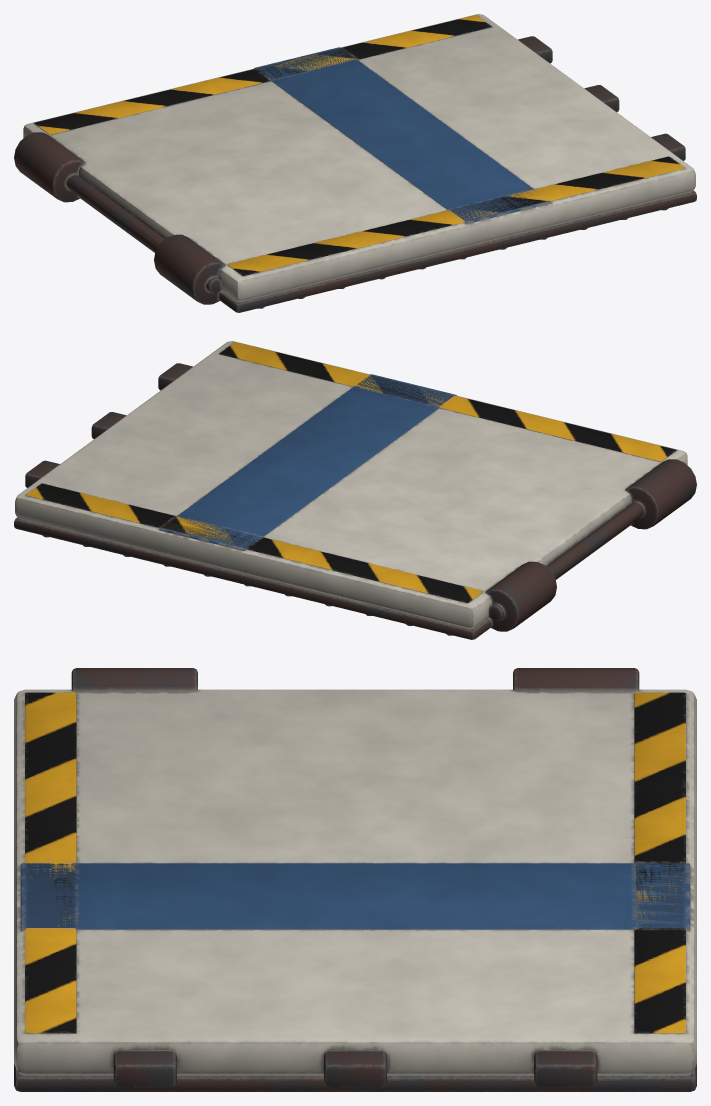
The model's file is kapsul_kapak.glb.
3 views of the same model, one above another, from view 1: azimuth 30°, elevation 25°; view 2: azimuth 150°, elevation 25°; view 3: azimuth 270°, elevation 25° (orthographic). The views are drawn at different scales.
Parts seen in each view (by area): view 1: hatch; view 2: hatch; view 3: hatch.
Part boxes in pixels (bbox=[...]): hatch: bbox=[14, 14, 696, 312]; hatch: bbox=[14, 341, 696, 639]; hatch: bbox=[14, 668, 696, 1091].
Size of the model in its own units: 1.76 by 0.165 by 1.3.
1 material, 1 textured.
